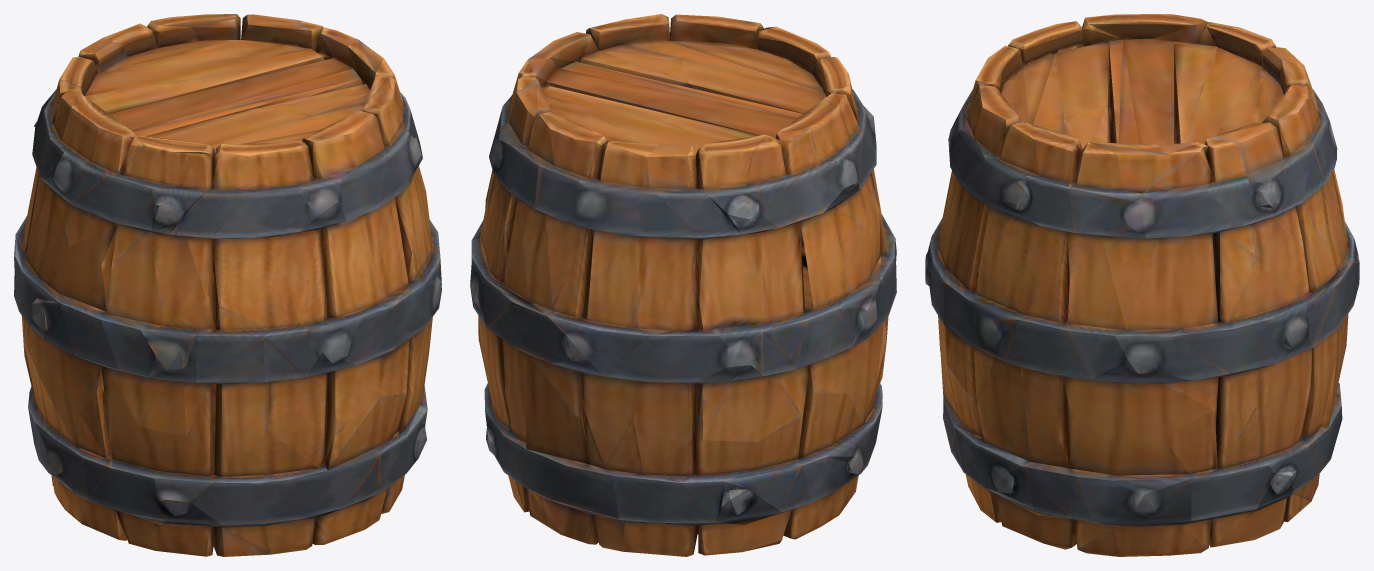
File: barrel.low.glb
3 views of the same model, side by side, from view 1: azimuth 30°, elevation 25°; view 2: azimuth 150°, elevation 25°; view 3: azimuth 270°, elevation 25° (orthographic).
Parts seen in each view (by area): view 1: output_unwrapped; view 2: output_unwrapped; view 3: output_unwrapped.
Boxes of the visible parts, bbox=[...] form: output_unwrapped: bbox=[14, 14, 441, 556]; output_unwrapped: bbox=[470, 14, 896, 556]; output_unwrapped: bbox=[925, 14, 1359, 556].
Bounding box in the file's own units: 1.86 × 1.9 × 1.85.
Materials: 1 (1 with a texture image).
